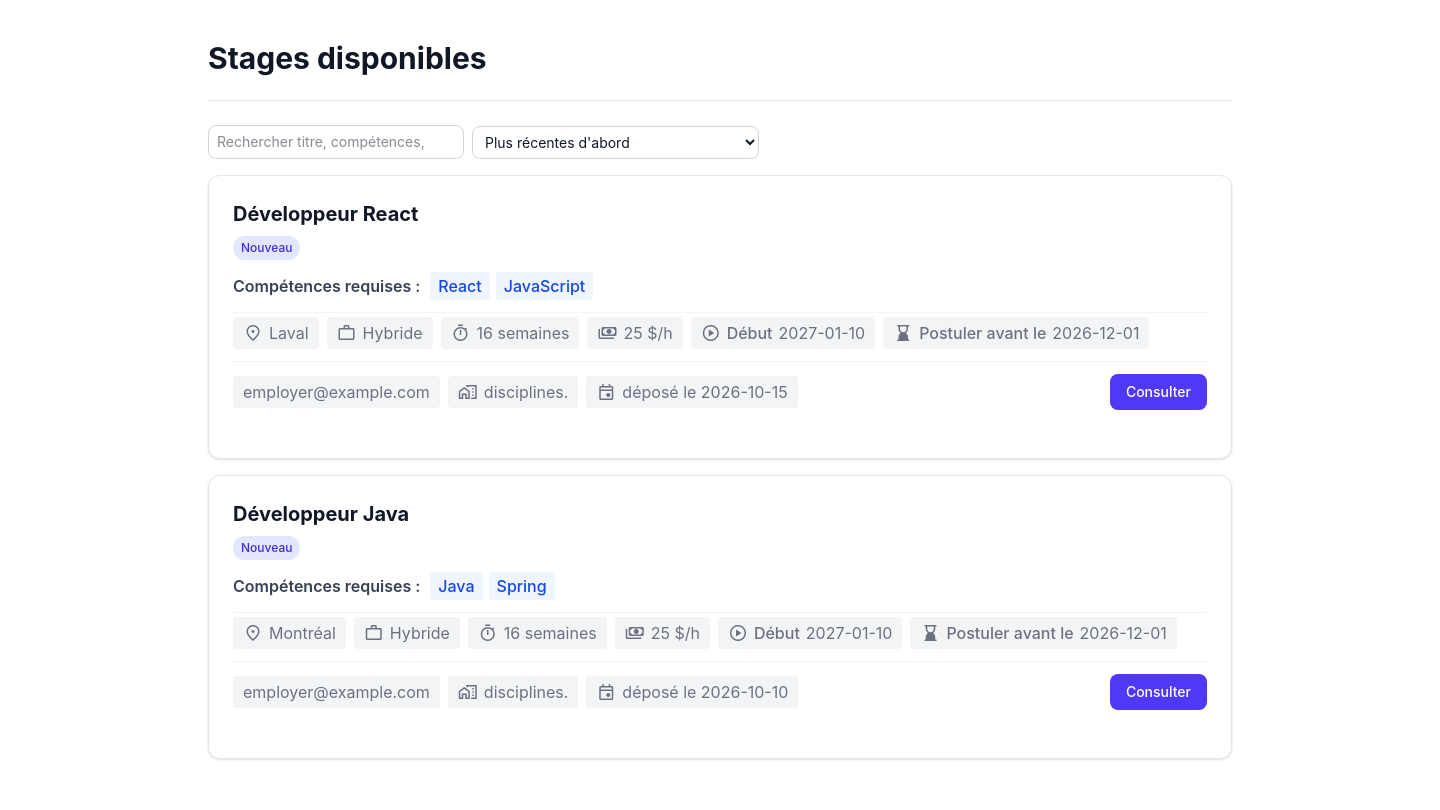
Test: StudentInternships allows students to consult offers › shouldShowDetailsOnlyAfterClickingPreview
The width and height of the screenshot is (1440, 810).
Expected: the heading "Développeur Java" is shown, [233, 502, 409, 526]
Expected: the text "Développement backend avec Spring Boot" is not shown
Click the button "Consulter" in the row of "2026-10-10": (1158, 692) [1110, 674, 1207, 710]
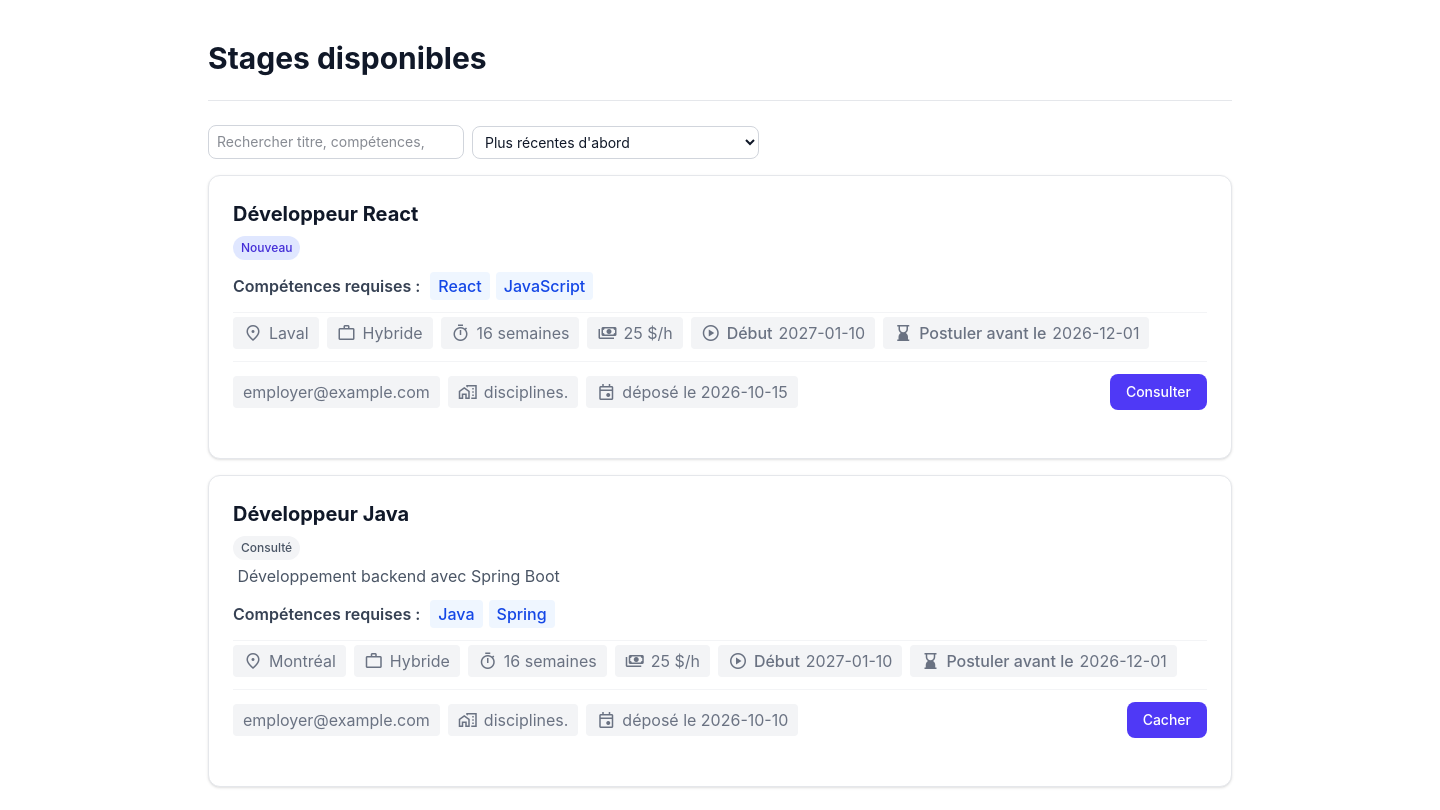
Expected: the text "Développement backend avec Spring Boot" is shown, [238, 566, 560, 586]
